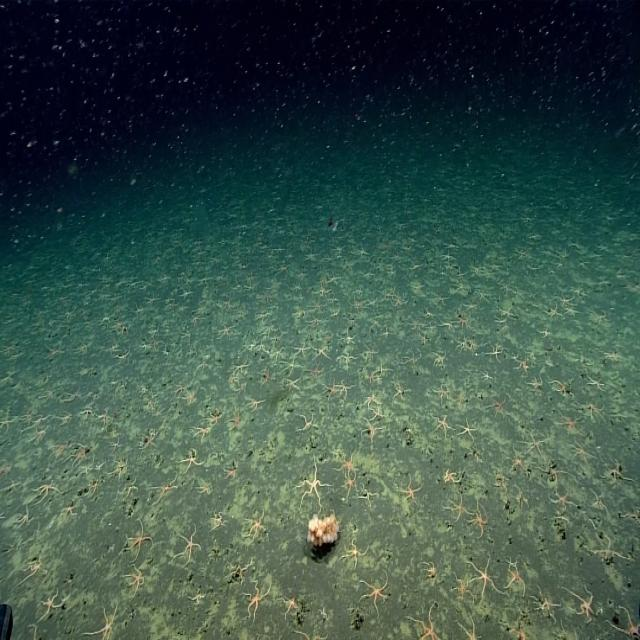brittle-stars: (290, 449, 329, 516), (356, 562, 396, 620), (562, 581, 602, 625), (121, 516, 156, 564), (464, 560, 502, 602), (604, 598, 640, 640), (403, 604, 444, 640), (589, 533, 630, 565), (240, 577, 267, 623), (172, 523, 202, 564), (396, 468, 425, 508), (336, 533, 369, 568), (87, 605, 119, 640), (148, 473, 183, 505), (12, 556, 44, 589), (243, 511, 273, 544), (173, 444, 206, 474), (28, 477, 61, 504), (224, 556, 250, 588), (536, 589, 560, 623), (444, 491, 472, 520), (522, 424, 547, 455), (453, 612, 480, 640), (356, 416, 382, 444), (504, 564, 526, 596), (35, 588, 61, 614), (556, 412, 584, 436), (277, 592, 303, 617), (600, 460, 632, 480), (358, 479, 378, 510), (124, 570, 146, 598), (458, 416, 480, 444), (434, 410, 454, 440), (548, 374, 573, 398), (186, 423, 210, 448), (451, 576, 472, 604), (469, 506, 490, 534), (338, 474, 358, 503), (539, 461, 563, 485), (292, 411, 316, 435), (549, 487, 574, 510), (570, 441, 596, 463), (49, 436, 72, 460), (338, 447, 357, 476), (486, 396, 511, 418), (104, 457, 130, 478), (504, 621, 532, 640), (442, 465, 465, 488), (13, 506, 32, 533), (602, 346, 626, 367), (493, 466, 512, 492), (139, 430, 158, 456), (222, 456, 240, 483), (586, 492, 610, 512), (204, 402, 224, 426), (210, 508, 229, 533), (336, 347, 358, 368), (80, 479, 100, 502), (508, 451, 529, 472), (67, 446, 87, 468), (584, 397, 602, 421), (400, 351, 421, 371), (123, 472, 138, 500), (357, 345, 379, 364), (431, 347, 449, 370), (59, 501, 78, 522), (182, 388, 201, 409), (338, 374, 356, 396), (308, 342, 330, 360), (323, 376, 340, 399), (0, 408, 16, 432), (483, 343, 503, 362), (2, 478, 22, 497), (230, 359, 252, 376), (306, 362, 323, 384), (40, 343, 62, 360), (282, 351, 298, 374), (419, 562, 437, 582), (391, 380, 409, 400), (31, 425, 49, 445), (64, 384, 80, 406), (230, 409, 245, 432), (584, 375, 608, 389), (245, 393, 263, 411), (292, 342, 310, 360), (515, 486, 529, 509), (364, 391, 380, 411), (292, 631, 326, 640), (401, 318, 422, 332), (77, 407, 95, 423), (452, 312, 470, 328), (190, 362, 210, 376), (434, 381, 450, 398), (375, 359, 391, 376), (42, 384, 58, 401), (259, 368, 274, 386), (117, 347, 132, 365), (315, 607, 329, 626), (545, 300, 558, 320), (504, 550, 520, 566), (108, 438, 124, 454), (0, 340, 16, 356), (438, 317, 454, 333), (32, 414, 49, 429), (514, 357, 532, 371), (370, 406, 384, 424), (284, 375, 302, 389), (432, 294, 453, 306), (450, 394, 466, 409), (465, 338, 481, 353), (106, 423, 121, 439), (60, 409, 72, 429), (528, 377, 542, 393), (95, 408, 109, 424), (171, 381, 185, 397), (192, 483, 210, 495), (190, 590, 204, 605), (453, 338, 468, 352), (92, 459, 106, 474), (557, 289, 572, 303), (81, 459, 93, 476), (104, 338, 116, 354), (592, 311, 608, 323), (228, 370, 241, 384), (21, 408, 33, 423), (496, 306, 514, 316), (422, 306, 434, 321), (419, 331, 430, 347), (381, 322, 389, 343), (495, 316, 508, 328), (562, 306, 577, 316), (0, 462, 9, 478), (76, 339, 88, 351), (541, 326, 550, 340), (142, 397, 154, 407), (367, 371, 376, 384), (482, 371, 492, 381)
